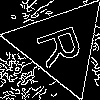R: (35, 20, 93, 70)
